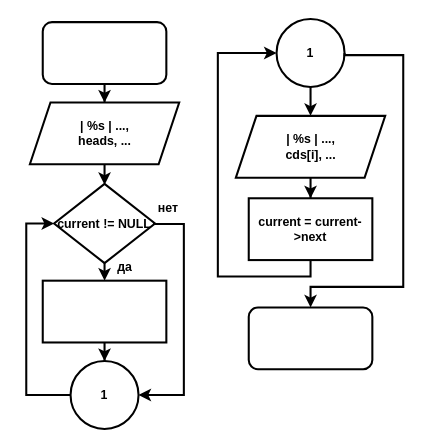
This 430x447 diagram has some shape labels left out. The centre of each missing label's shape, as x and y in pixels:
"CD* current = head" belongs at point (104, 311).
"конец" belongs at point (310, 338).
"начало" belongs at point (104, 52).
